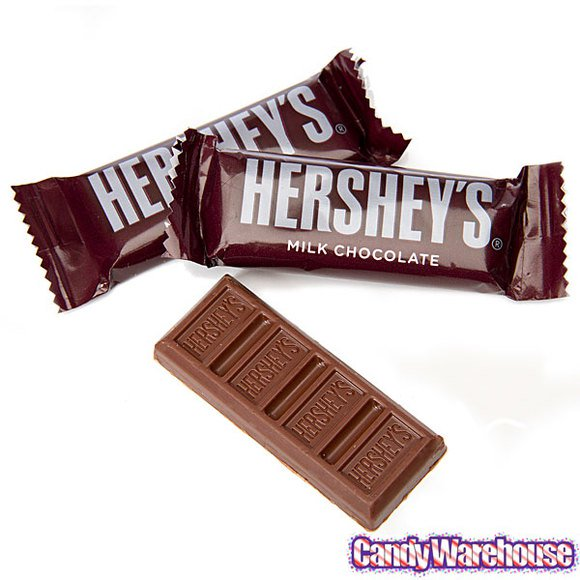hershey: (171, 129, 574, 301)
